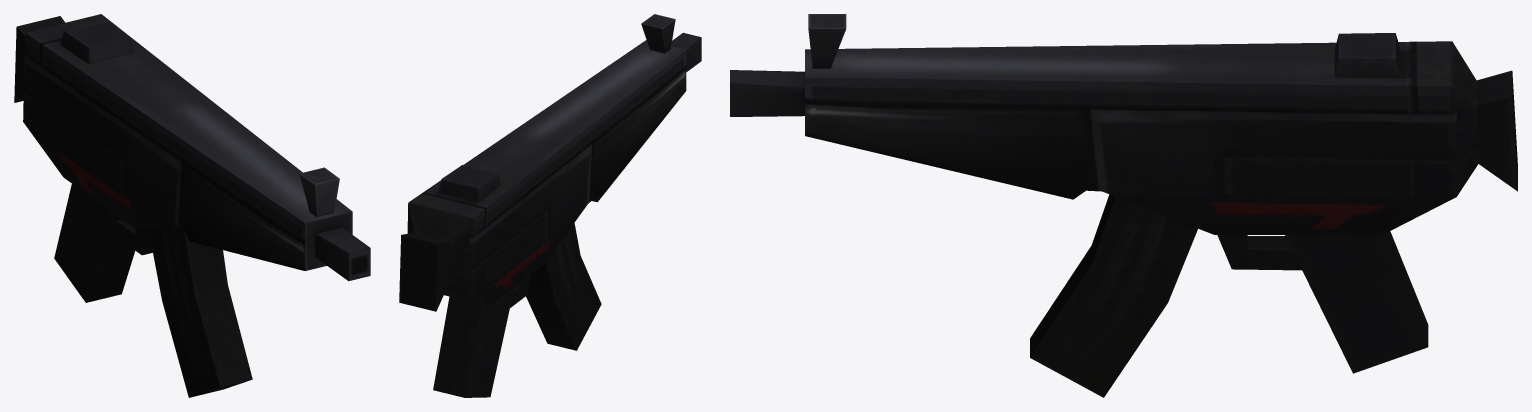
The model's file is mp5_equipped.glb.
The picture shows the model from 3 angles, left to right: view 1: azimuth 30°, elevation 25°; view 2: azimuth 150°, elevation 25°; view 3: azimuth 270°, elevation 25°; orthographic projection. The views are drawn at different scales.
Parts seen in each view (by area): view 1: MP5_0; view 2: MP5_0; view 3: MP5_0.
Boxes of the visible parts, x1=… form: MP5_0: x1=14, y1=14, x2=370, y2=397; MP5_0: x1=399, y1=14, x2=701, y2=397; MP5_0: x1=730, y1=14, x2=1517, y2=397.
Size of the model in its own units: 0.1385 by 0.5201 by 1.01.
1 material, 1 textured.
